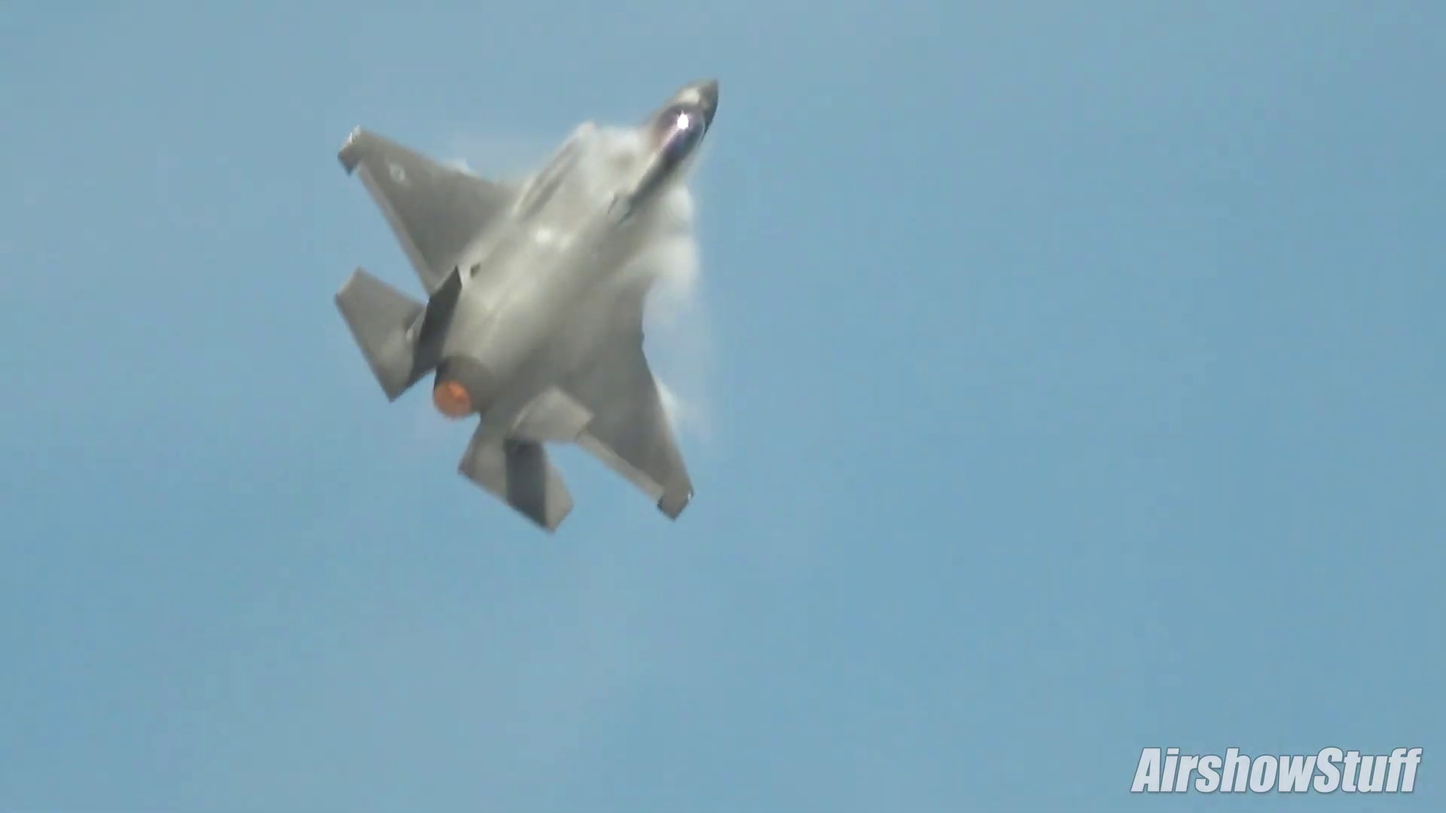F35: (319, 66, 729, 545)
